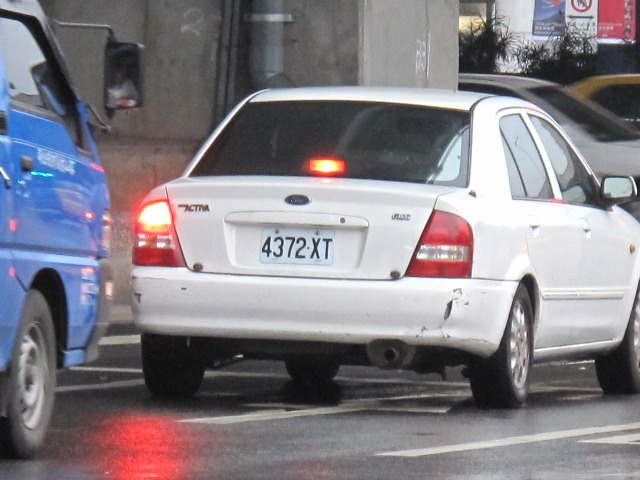plate: (258, 220, 338, 267)
